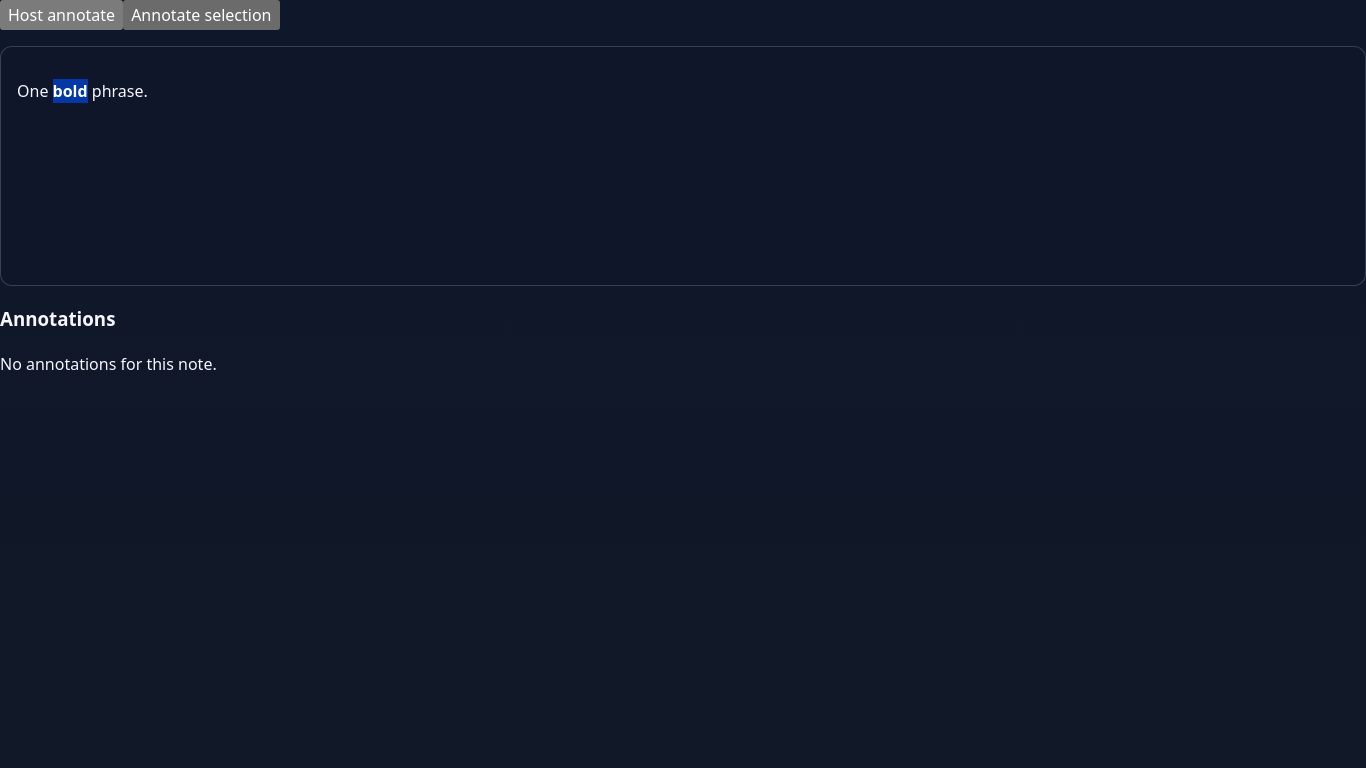
Test: annotation reading UI › opens a labelled keyboard-accessible dialog with shortcut and saves captured selection
Press A
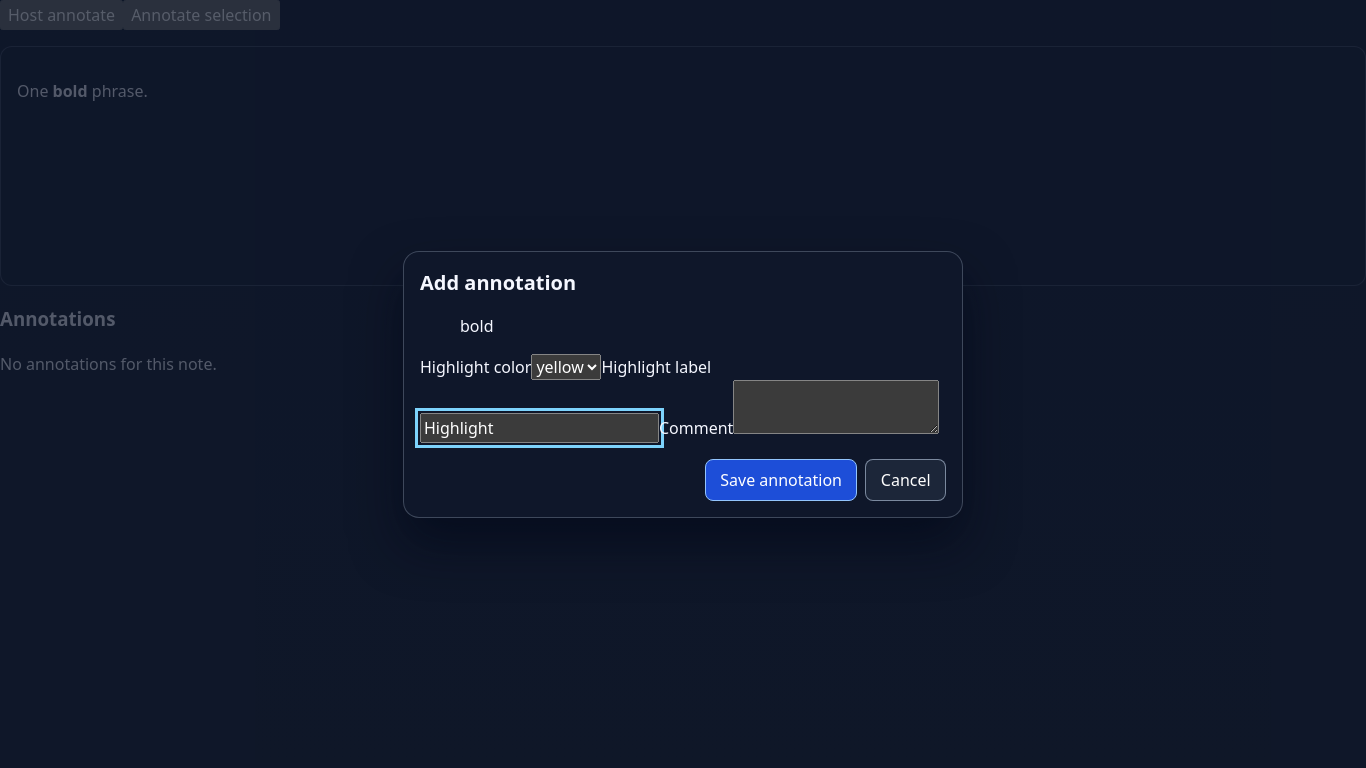
Check: the dialog "Add annotation" is shown, box x1=403 y1=250 x2=963 y2=518
Replace the text in the field labelled "Highlight label" with "Question" at (540, 428), box x1=420 y1=412 x2=659 y2=442
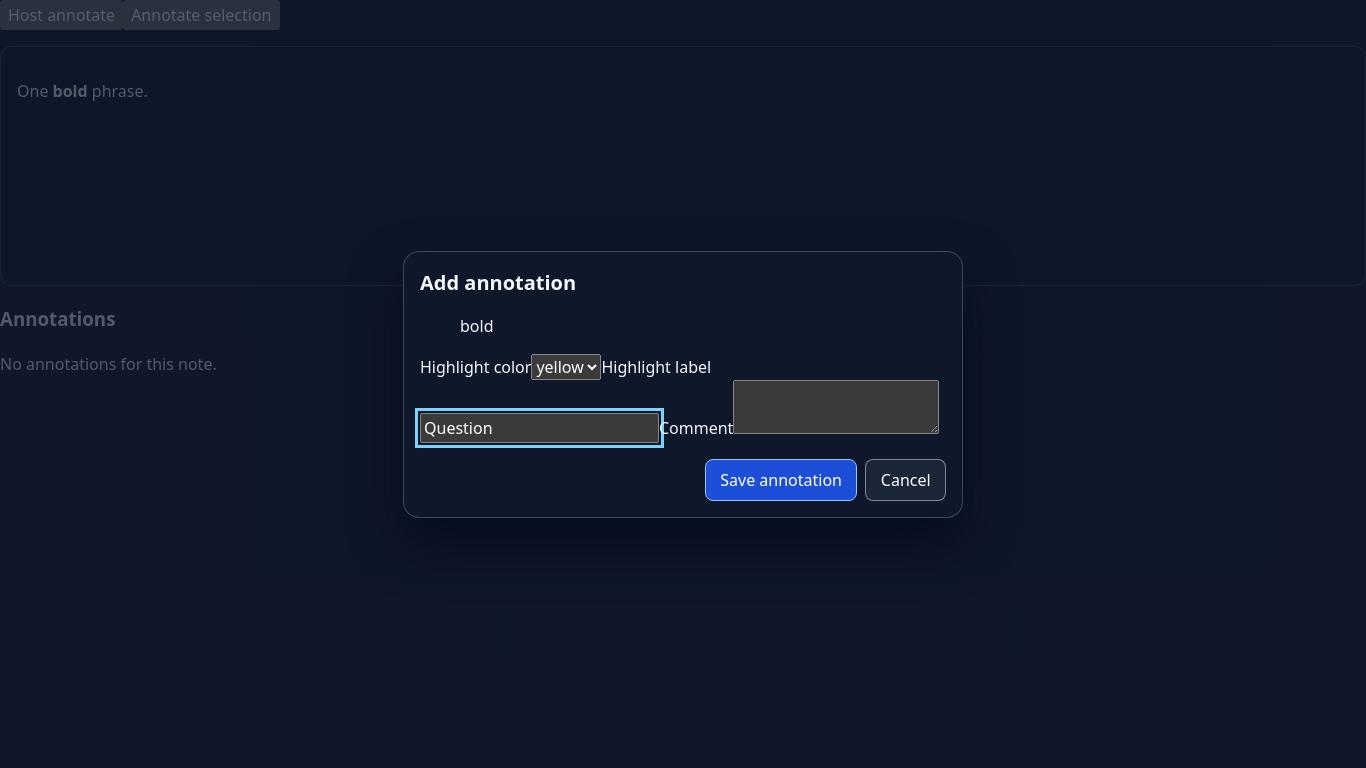
Type "<script>literal</script>" into the text box labelled "Comment".
click(836, 406); type("<script>literal</script>")  # box x1=733 y1=380 x2=939 y2=434
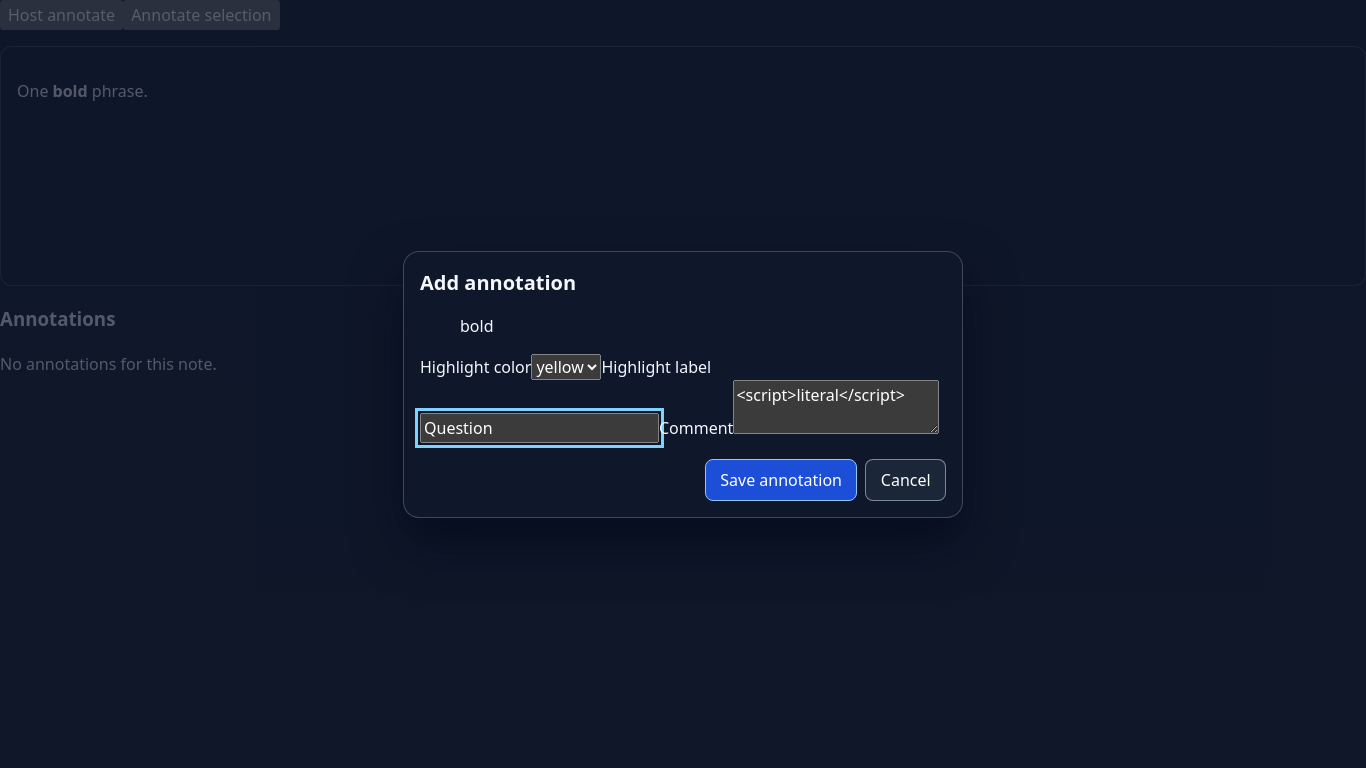
Click the button "Save annotation".
click(781, 480)  # box x1=705 y1=458 x2=857 y2=500
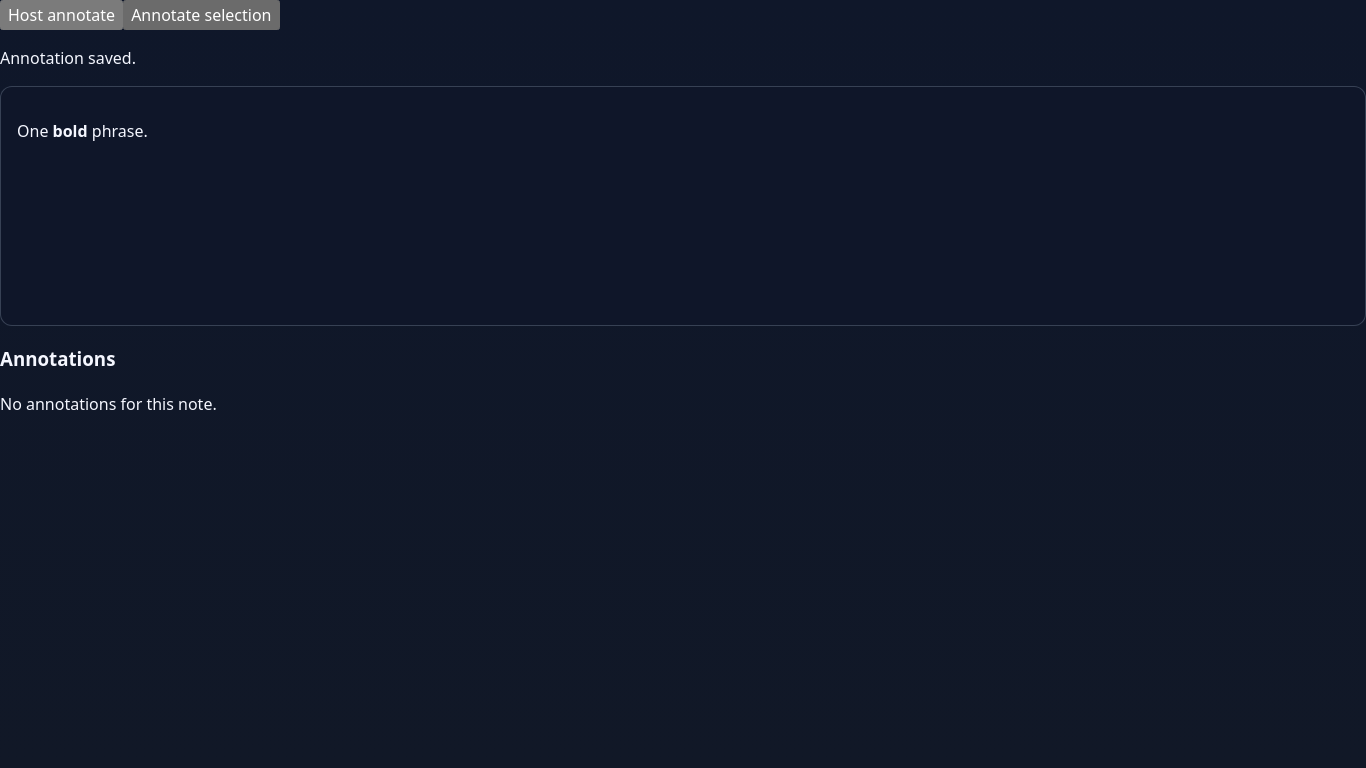
Check: the dialog is gone
